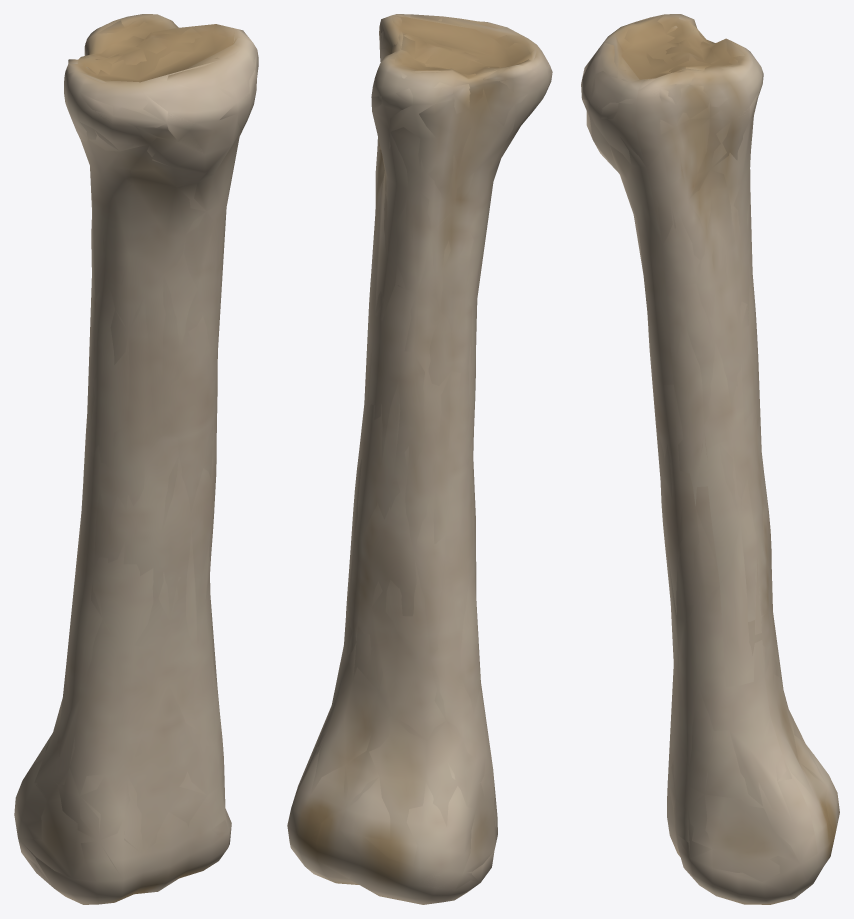
File: R metacarpi tertium.fbx
The picture shows the model from 3 angles, left to right: view 1: azimuth 30°, elevation 25°; view 2: azimuth 150°, elevation 25°; view 3: azimuth 270°, elevation 25°; orthographic projection. The views are drawn at different scales.
Visible parts, largest first — view 1: R metacarpi tertium low, R metacarpi tertium; view 2: R metacarpi tertium low, R metacarpi tertium; view 3: R metacarpi tertium low, R metacarpi tertium.
Boxes of the visible parts, left/top/right/bottom form: R metacarpi tertium low: left=18, top=14, right=257, bottom=904; R metacarpi tertium: left=14, top=14, right=258, bottom=904; R metacarpi tertium low: left=287, top=14, right=552, bottom=904; R metacarpi tertium: left=287, top=14, right=552, bottom=904; R metacarpi tertium low: left=582, top=14, right=839, bottom=904; R metacarpi tertium: left=581, top=14, right=839, bottom=904.
Bounding box in the file's own units: 7.02 × 29.8 × 8.42.
1 material, 1 textured.
